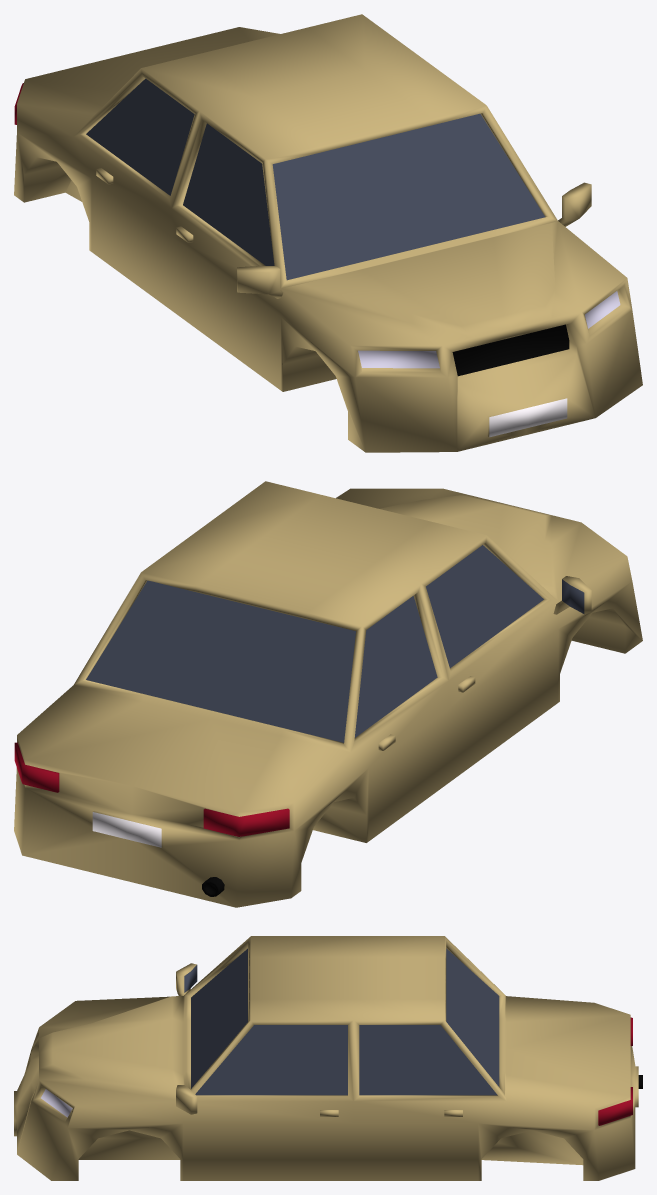
File: Car.fbx
The picture shows the model from 3 angles, top to bottom: view 1: azimuth 30°, elevation 25°; view 2: azimuth 150°, elevation 25°; view 3: azimuth 270°, elevation 25°; orthographic projection. The views are drawn at different scales.
Visible parts, largest first — view 1: Car; view 2: Car; view 3: Car.
Boxes of the visible parts, x1=… form: Car: x1=14, y1=14, x2=642, y2=452; Car: x1=14, y1=481, x2=642, y2=907; Car: x1=14, y1=936, x2=642, y2=1180.
Size of the model in its own units: 1.69 by 3.33 by 0.8772.
